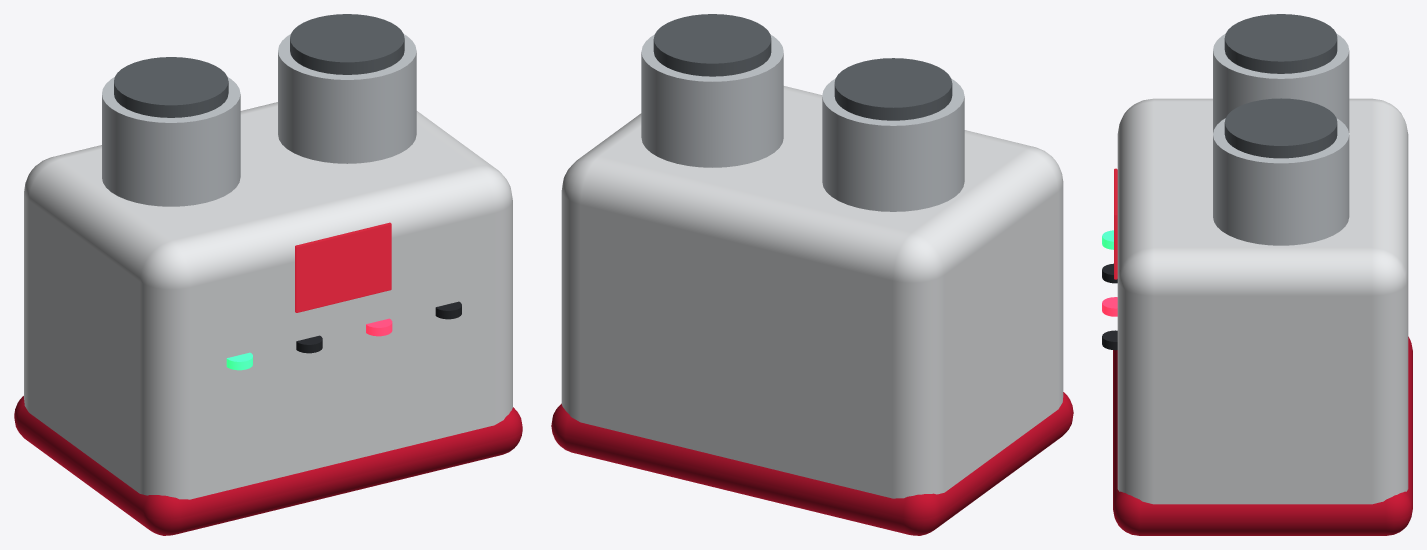
File: ngy-10.glb
The picture shows the model from 3 angles, left to right: view 1: azimuth 30°, elevation 25°; view 2: azimuth 150°, elevation 25°; view 3: azimuth 270°, elevation 25°; orthographic projection. The views are drawn at different scales.
Size of the model in its own units: 0.47 by 0.455 by 0.342.
